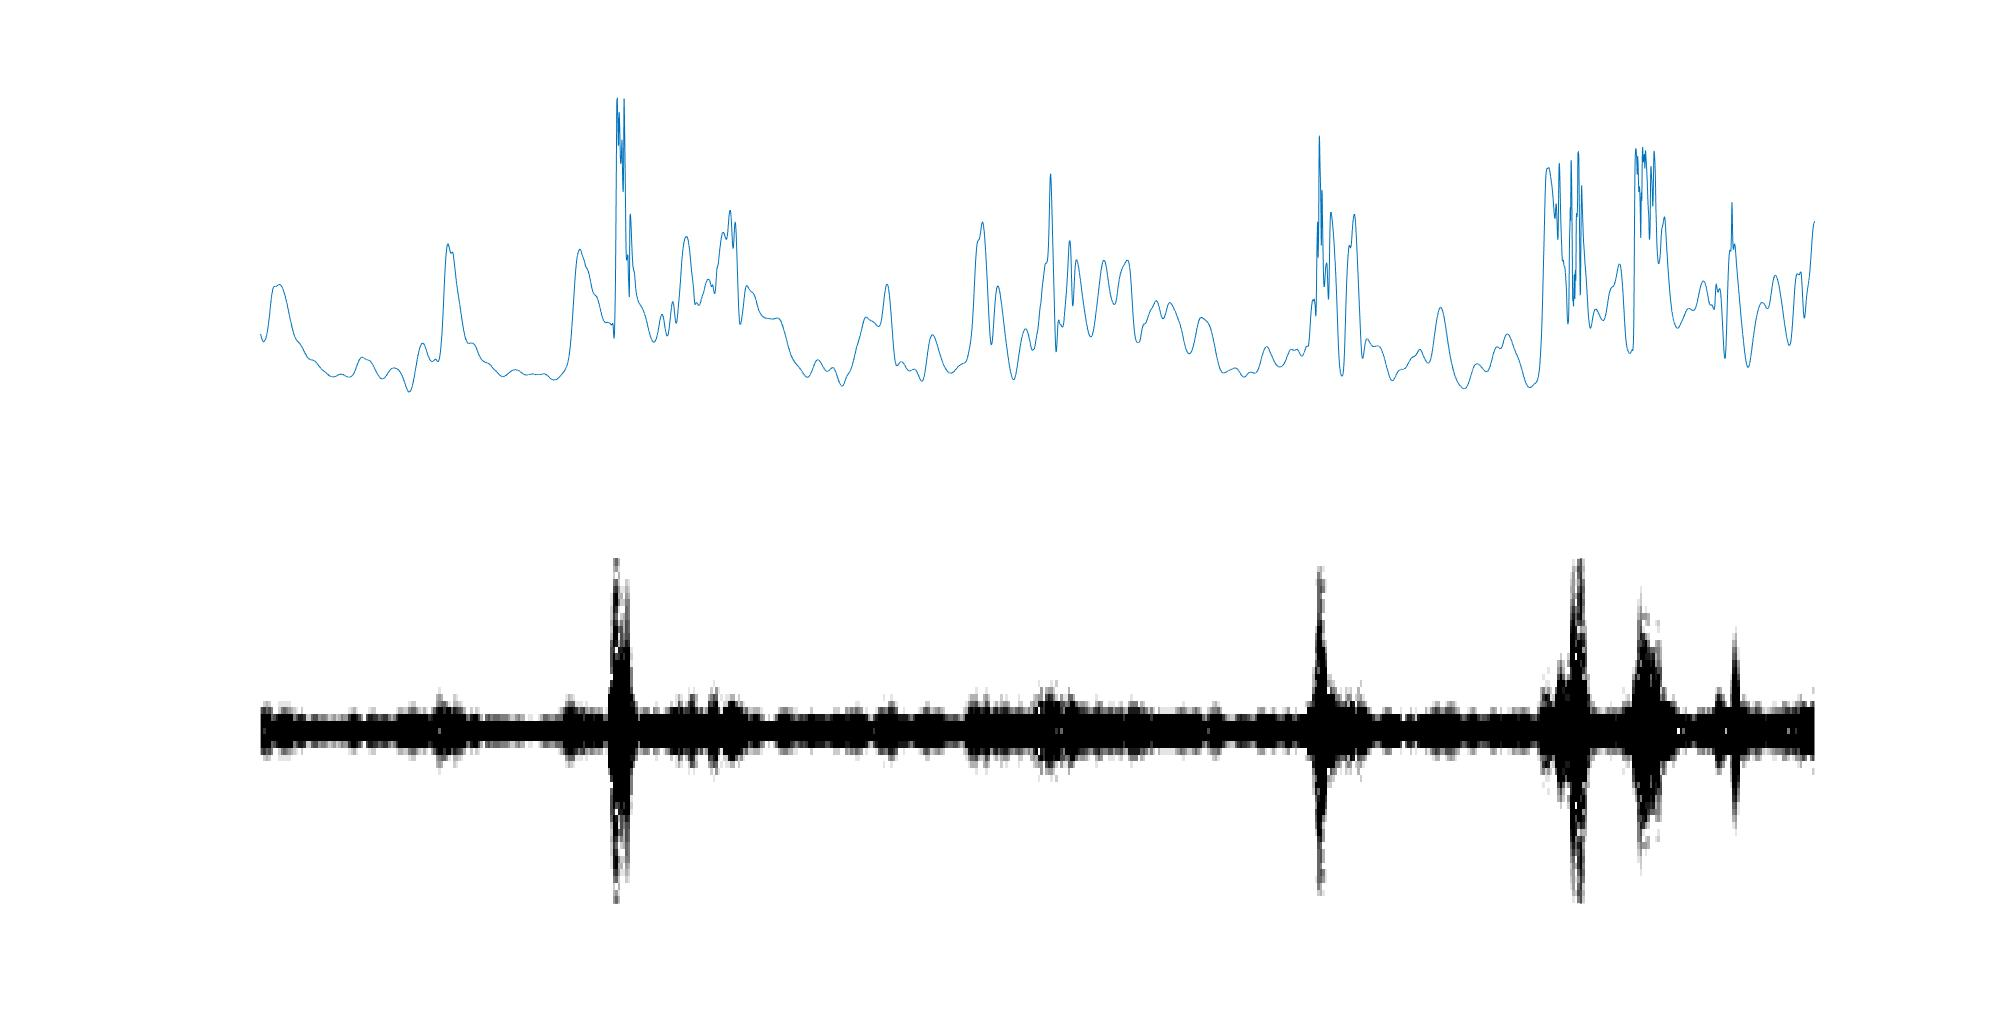spot: (1306, 568, 1372, 899), (1544, 560, 1591, 905), (1628, 591, 1679, 857), (604, 559, 637, 912)
